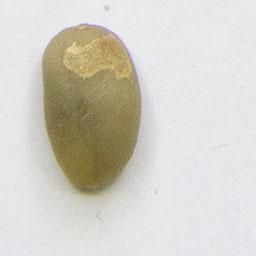longberry: (38, 19, 145, 195)
